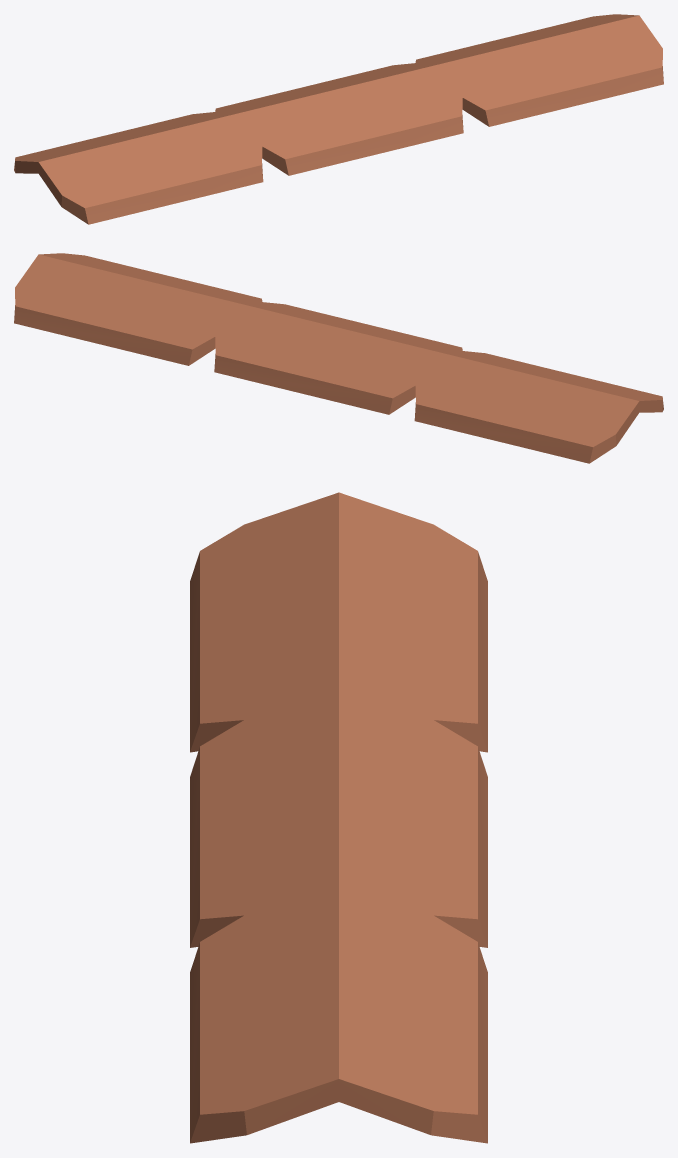
The model's file is SM_Roof_Top_3m_Empire.fbx.
3 views of the same model, one above another, from view 1: azimuth 30°, elevation 25°; view 2: azimuth 150°, elevation 25°; view 3: azimuth 270°, elevation 25° (orthographic). The views are drawn at different scales.
Visible parts, largest first — view 1: SM_Roof_Top_3m_Empire; view 2: SM_Roof_Top_3m_Empire; view 3: SM_Roof_Top_3m_Empire.
Part boxes in pixels (x1,y1,x2,y2): SM_Roof_Top_3m_Empire: [14, 14, 663, 224]; SM_Roof_Top_3m_Empire: [14, 253, 663, 463]; SM_Roof_Top_3m_Empire: [190, 492, 487, 1143].
Bounding box in the file's own units: 2.25 × 0.1378 × 0.4834.
